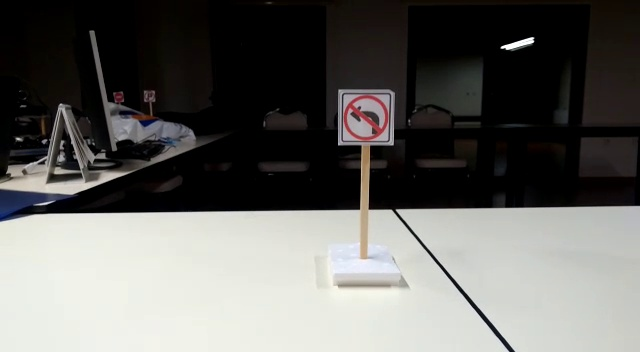sola_donulmez: (337, 88, 394, 144)
